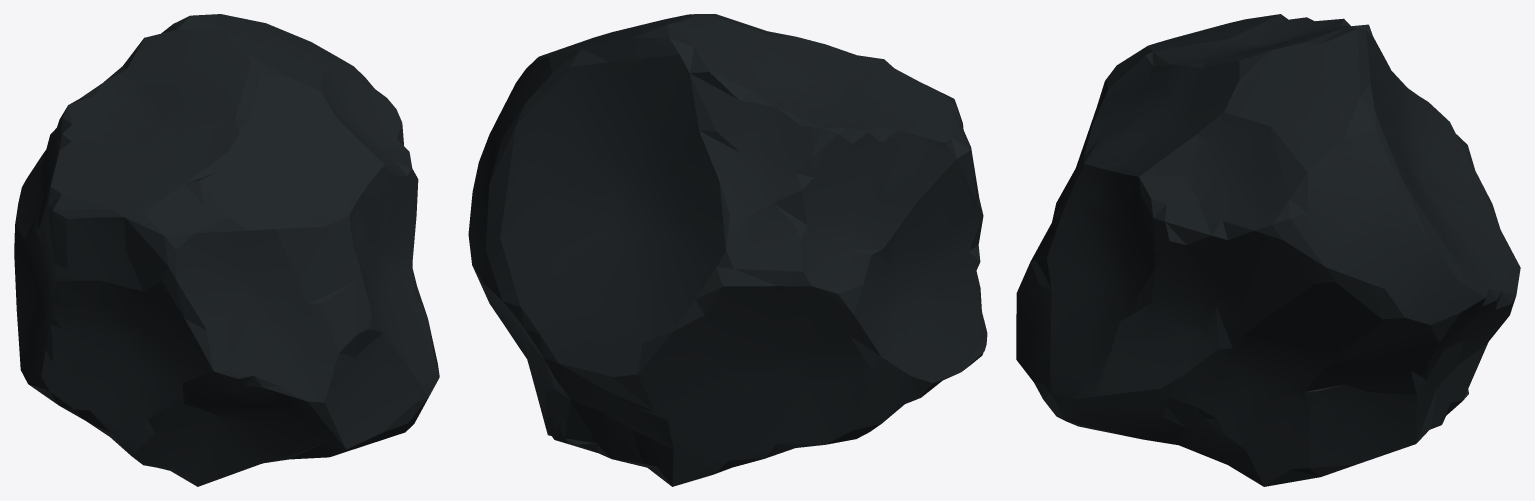
File: Asteroid_l_03.FBX
3 views of the same model, side by side, from view 1: azimuth 30°, elevation 25°; view 2: azimuth 150°, elevation 25°; view 3: azimuth 270°, elevation 25° (orthographic). The views are drawn at different scales.
Parts seen in each view (by area): view 1: Asteroid_l_03; view 2: Asteroid_l_03; view 3: Asteroid_l_03.
Boxes of the visible parts, x1,y1,x2,y2 form: Asteroid_l_03: [14, 14, 439, 486]; Asteroid_l_03: [468, 14, 987, 486]; Asteroid_l_03: [1016, 14, 1520, 486].
Size of the model in its own units: 1242 by 1168 by 1302.
